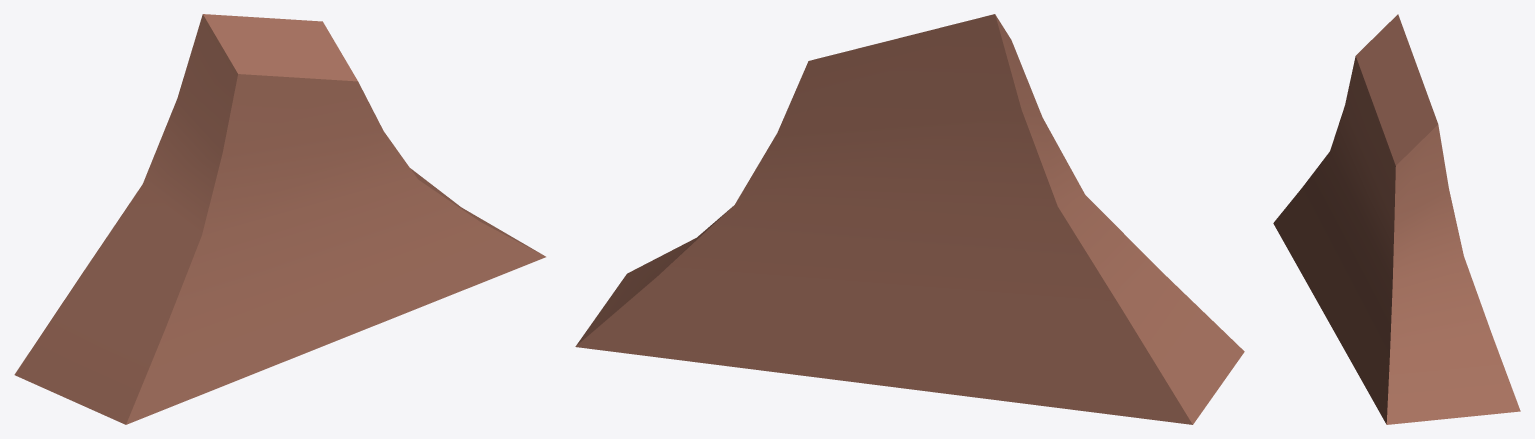
File: Rochet_3.fbx
3 renders of one model, left to right at view 1: azimuth 30°, elevation 25°; view 2: azimuth 150°, elevation 25°; view 3: azimuth 270°, elevation 25°, orthographic. The views are drawn at different scales.
Visible parts, largest first — view 1: pCube36; view 2: pCube36; view 3: pCube36.
Part boxes in pixels (left/top/right/bottom): pCube36: left=14, top=14, right=545, bottom=424; pCube36: left=575, top=14, right=1244, bottom=424; pCube36: left=1273, top=14, right=1520, bottom=424.
Size of the model in its own units: 713 by 419 by 347.
